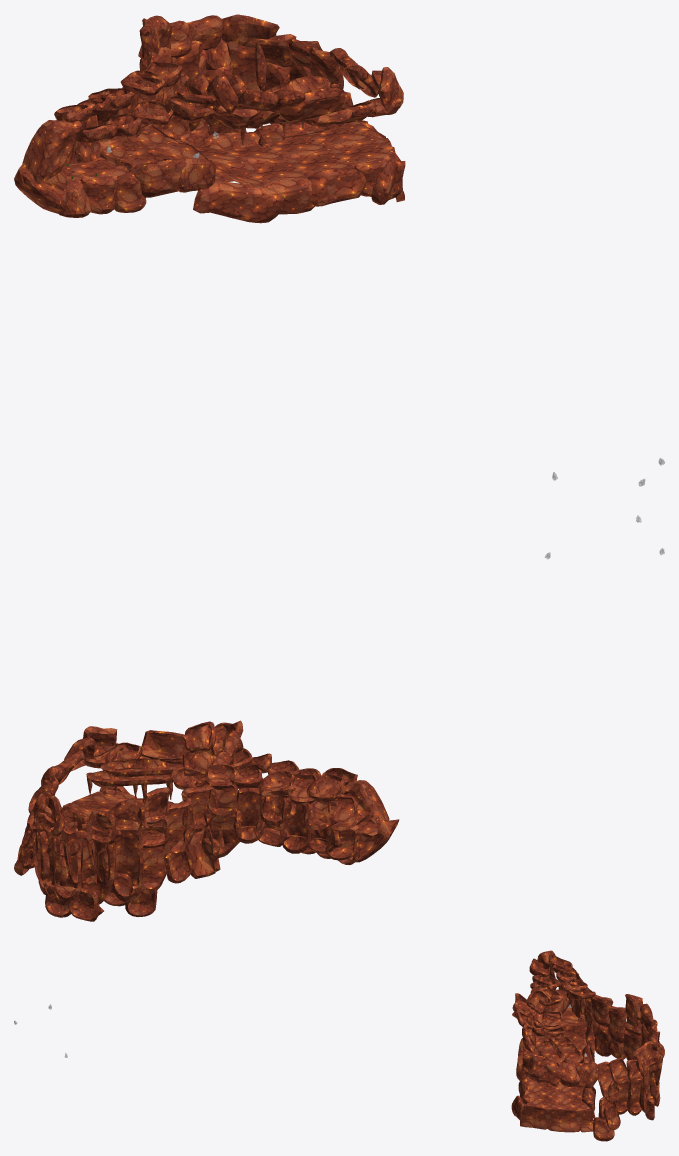
The model's file is dungeon_environment.fbx.
The picture shows the model from 3 angles, top to bottom: view 1: azimuth 30°, elevation 25°; view 2: azimuth 150°, elevation 25°; view 3: azimuth 270°, elevation 25°; orthographic projection. The views are drawn at different scales.
Visible parts, largest first — view 1: base_terrain_cave_only2, rock_xxl_01.073, rock_xxl_01.063, rock_xxl_163, rock_xxl_177, rock_xxl_186, rock_xxl_200, rock_xxl_149, rock_xxl_166, rock_xxl_188, rock_xxl_191, rock_xxl_181 (+19 smaller); view 2: rock_xxl_194, rock_xxl_201, rock_xxl_01.063, rock_xxl_149, rock_xxl_154, rock_xxl_184, rock_xxl_189, rock_xxl_173, rock_xxl_159, rock_xxl_207, rock_xxl_175, rock_xxl_208 (+28 smaller); view 3: base_terrain_cave_only2, cliff_7, rock_xxl_207, rock_xxl_171, rock_xxl_173, rock_xxl_208, rock_xxl_183, rock_xxl_200, rock_xxl_181, rock_xxl_190, rock_xxl_184, rock_xxl_151 (+15 smaller).
Part boxes in pixels (bbox=[...]): base_terrain_cave_only2: bbox=[60, 121, 399, 186]; rock_xxl_01.073: bbox=[193, 180, 284, 223]; rock_xxl_01.063: bbox=[22, 120, 81, 183]; rock_xxl_163: bbox=[307, 167, 366, 206]; rock_xxl_177: bbox=[14, 162, 73, 213]; rock_xxl_186: bbox=[129, 159, 186, 197]; rock_xxl_200: bbox=[221, 14, 279, 47]; rock_xxl_149: bbox=[279, 89, 345, 122]; rock_xxl_166: bbox=[263, 177, 314, 214]; rock_xxl_188: bbox=[80, 175, 117, 214]; rock_xxl_191: bbox=[178, 158, 215, 192]; rock_xxl_181: bbox=[227, 41, 266, 128]; rock_xxl_194: bbox=[112, 819, 143, 901]; rock_xxl_201: bbox=[78, 824, 115, 905]; rock_xxl_01.063: bbox=[335, 780, 389, 837]; rock_xxl_149: bbox=[140, 730, 194, 764]; rock_xxl_154: bbox=[233, 787, 264, 843]; rock_xxl_184: bbox=[183, 818, 215, 878]; rock_xxl_189: bbox=[137, 834, 170, 894]; rock_xxl_173: bbox=[100, 758, 190, 777]; rock_xxl_159: bbox=[202, 807, 241, 857]; rock_xxl_207: bbox=[162, 798, 195, 858]; rock_xxl_175: bbox=[280, 797, 311, 853]; rock_xxl_208: bbox=[181, 784, 218, 832]; base_terrain_cave_only2: bbox=[527, 989, 589, 1117]; cliff_7: bbox=[520, 1103, 592, 1132]; rock_xxl_207: bbox=[608, 1006, 627, 1043]; rock_xxl_171: bbox=[546, 1032, 582, 1063]; rock_xxl_173: bbox=[528, 1032, 564, 1063]; rock_xxl_208: bbox=[591, 994, 613, 1026]; rock_xxl_183: bbox=[575, 1061, 599, 1088]; rock_xxl_200: bbox=[633, 1041, 664, 1073]; rock_xxl_181: bbox=[639, 1054, 655, 1113]; rock_xxl_190: bbox=[597, 1061, 620, 1101]; rock_xxl_184: bbox=[592, 1021, 610, 1056]; rock_xxl_151: bbox=[538, 1059, 562, 1086].
Bounding box in the file's own units: 29.92 × 12.43 × 73.52.
